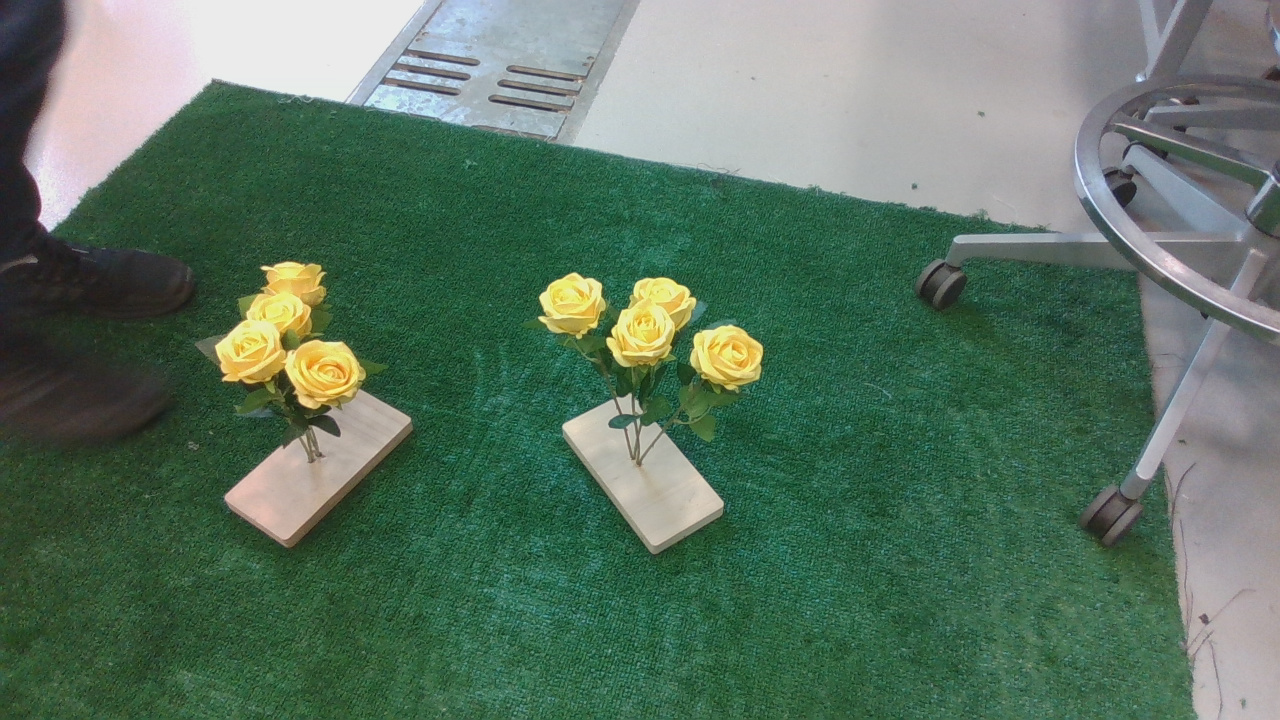rose: (532, 251, 777, 460), (193, 264, 413, 462)
